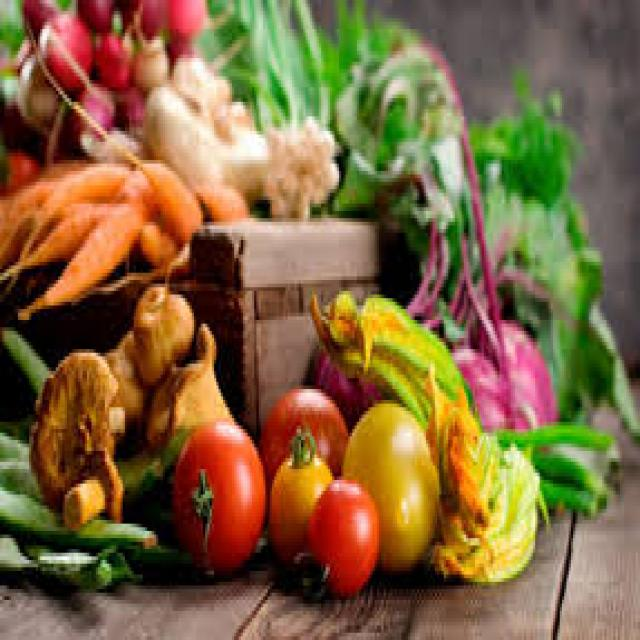organic waste: (330, 15, 497, 349), (486, 182, 638, 433), (419, 367, 540, 582), (196, 0, 372, 120), (306, 287, 466, 418), (62, 95, 203, 232), (341, 396, 437, 571), (27, 345, 120, 520), (170, 411, 263, 574), (18, 200, 145, 313), (145, 316, 234, 473), (258, 382, 346, 534), (448, 302, 555, 425), (475, 69, 569, 204), (14, 156, 130, 258), (0, 480, 156, 553), (0, 193, 107, 280), (270, 422, 330, 567), (303, 473, 377, 585), (256, 116, 339, 215), (142, 76, 218, 175), (4, 160, 72, 265), (129, 280, 194, 382), (24, 535, 140, 589), (103, 328, 147, 448), (176, 47, 248, 120), (484, 414, 611, 454), (310, 346, 381, 414), (533, 451, 607, 516), (38, 8, 91, 88), (138, 0, 208, 58), (0, 327, 45, 393), (221, 124, 261, 196), (18, 55, 58, 127), (192, 171, 250, 218), (138, 211, 181, 273), (92, 29, 130, 95), (132, 22, 170, 87), (74, 84, 116, 138), (69, 0, 127, 33), (0, 458, 40, 498), (2, 146, 40, 186), (118, 80, 145, 127), (0, 530, 33, 567), (0, 422, 29, 462)
